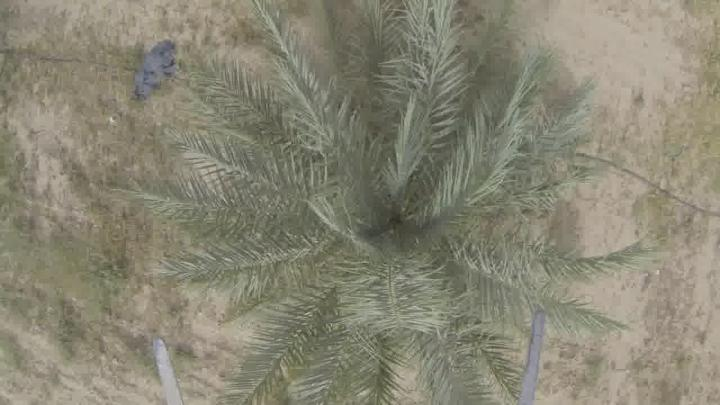Date-Palm-Crown: (256, 62, 516, 376)
